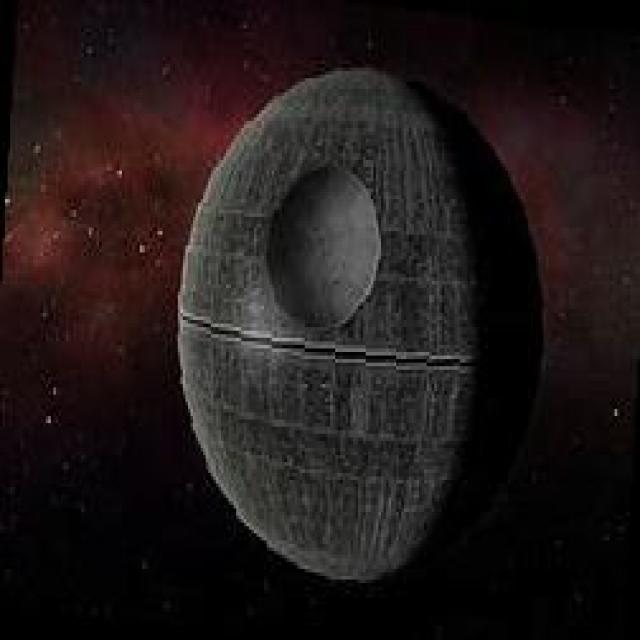Death Star: (165, 63, 543, 591)
